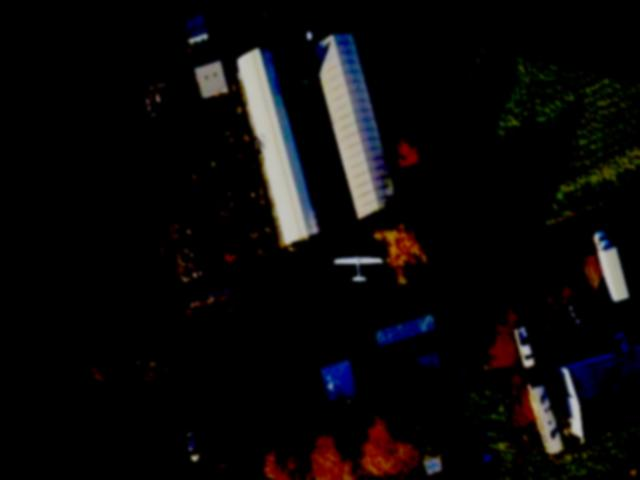uav: (312, 231, 393, 291)
